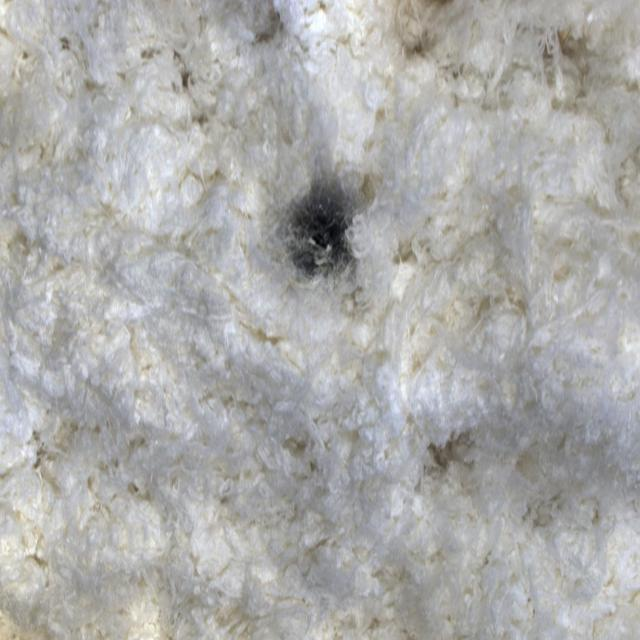dust: (250, 110, 407, 359)
